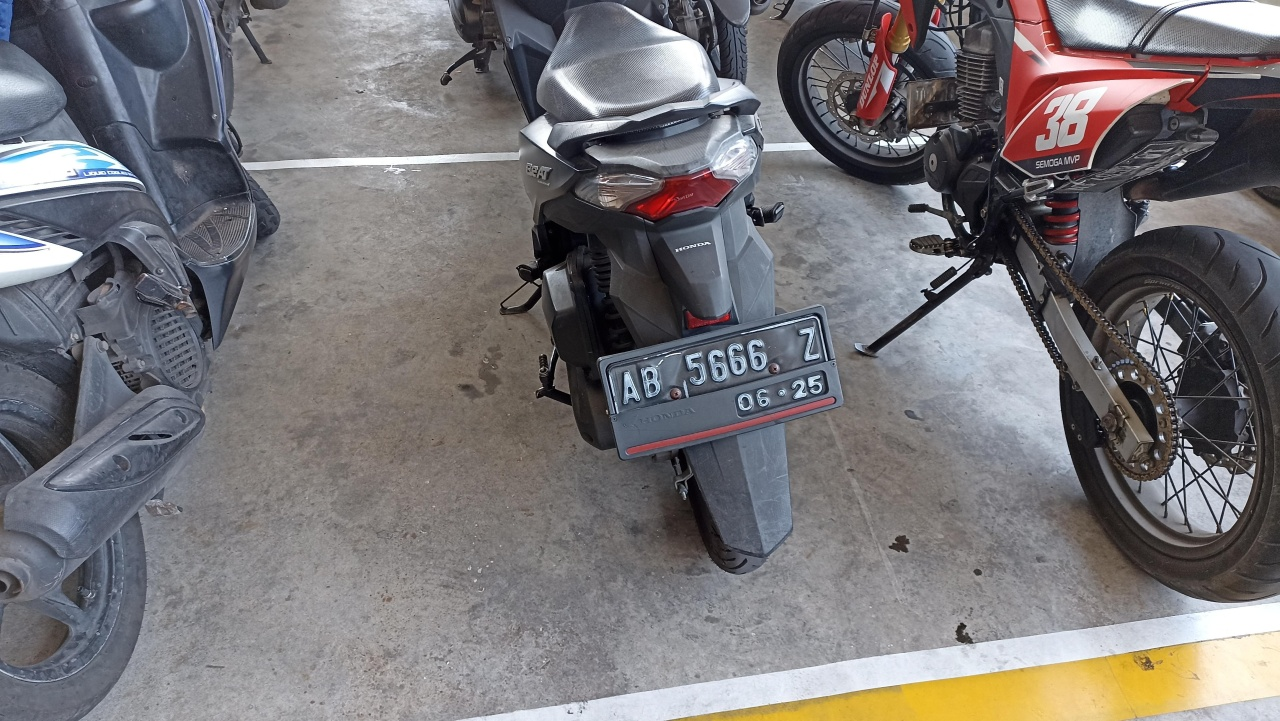plate: (601, 308, 842, 460)
